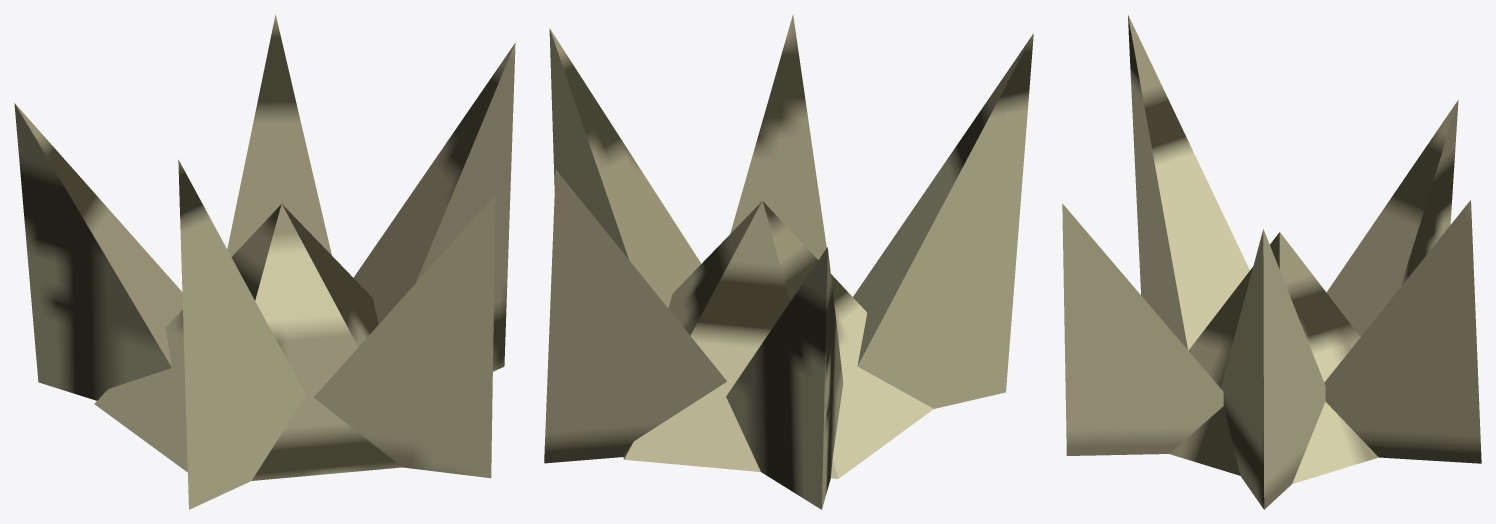
The model's file is grass_v1.fbx.
The picture shows the model from 3 angles, left to right: view 1: azimuth 30°, elevation 25°; view 2: azimuth 150°, elevation 25°; view 3: azimuth 270°, elevation 25°; orthographic projection. The views are drawn at different scales.
Visible parts, largest first — view 1: prop; view 2: prop; view 3: prop.
Part boxes in pixels (x1,y1,x2,y2): prop: (14, 14, 515, 509); prop: (544, 14, 1033, 509); prop: (1062, 15, 1481, 509).
Size of the model in its own units: 0.228 by 0.1907 by 0.2254.
